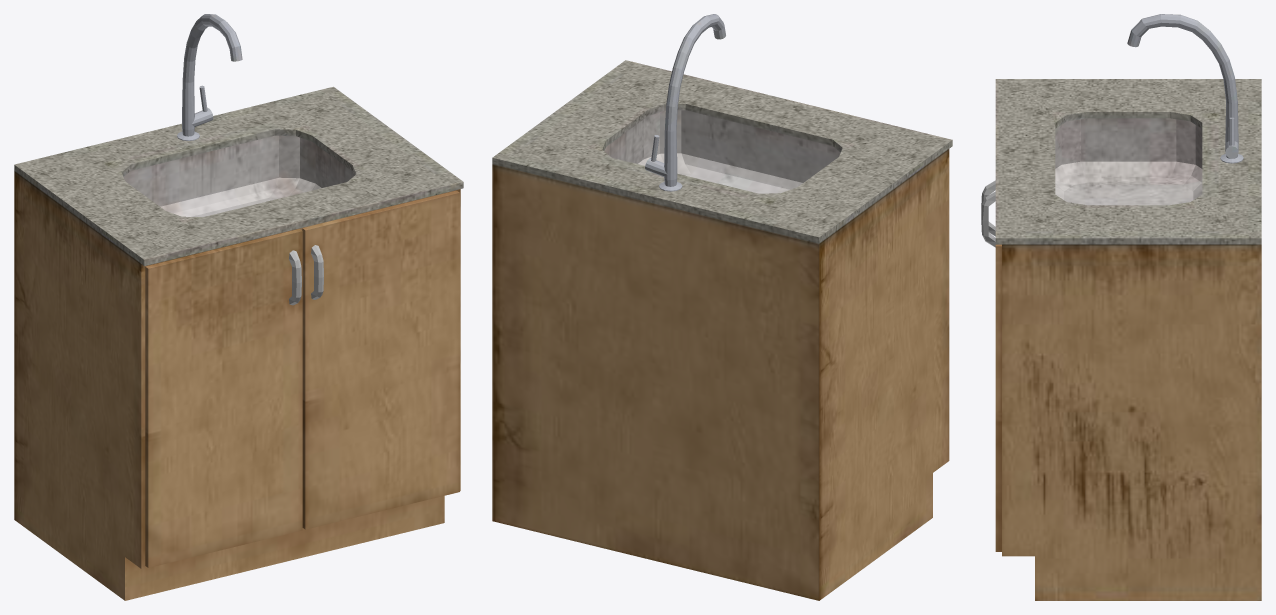
File: pia_a.glb
The picture shows the model from 3 angles, left to right: view 1: azimuth 30°, elevation 25°; view 2: azimuth 150°, elevation 25°; view 3: azimuth 270°, elevation 25°; orthographic projection. The views are drawn at different scales.
Visible parts, largest first — view 1: pia_a; view 2: pia_a; view 3: pia_a.
Part boxes in pixels (x1,y1,x2,y2): pia_a: [14, 14, 463, 600]; pia_a: [492, 14, 952, 600]; pia_a: [981, 14, 1261, 600].
Bounding box in the file's own units: 0.8 × 1.19 × 0.5956.
Materials: 1 (1 with a texture image).
